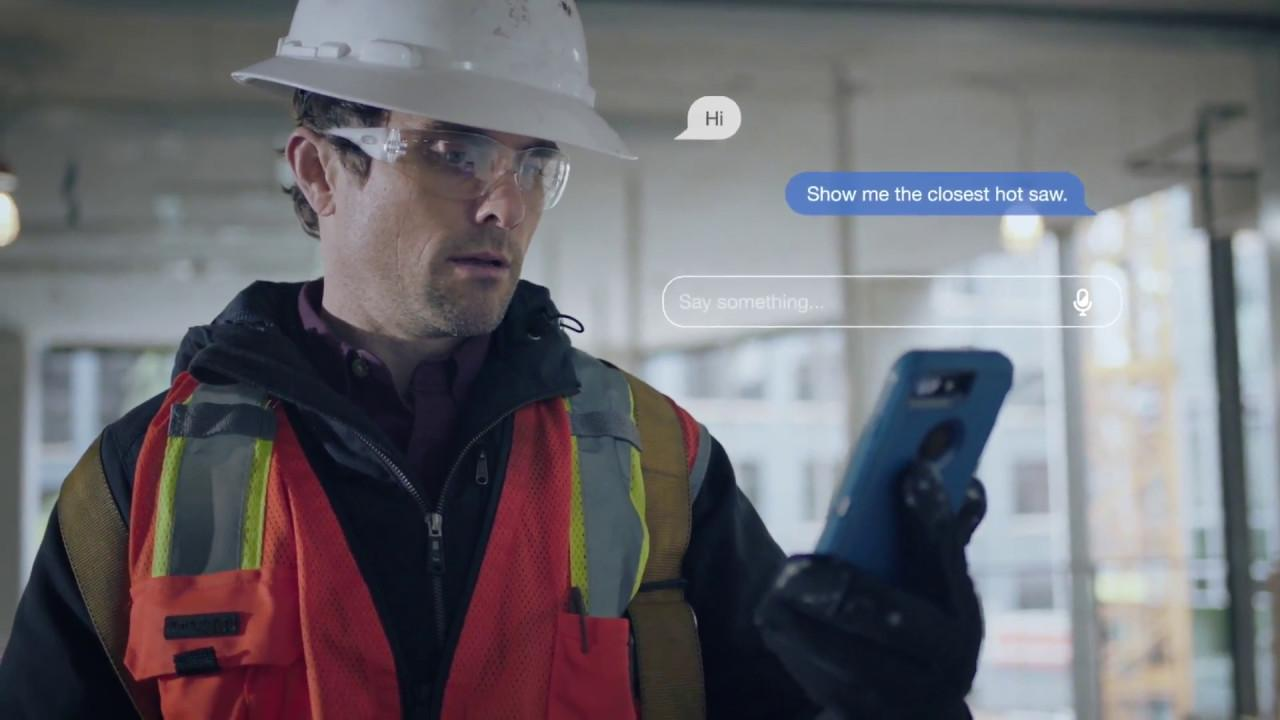helmet: (202, 1, 638, 173)
